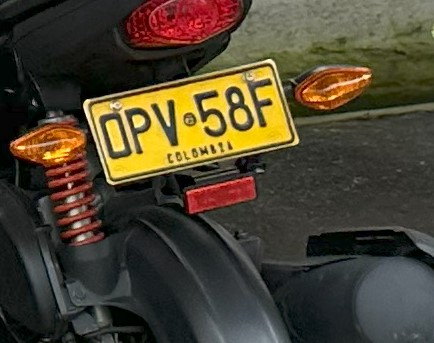number plate: (83, 59, 298, 184)
